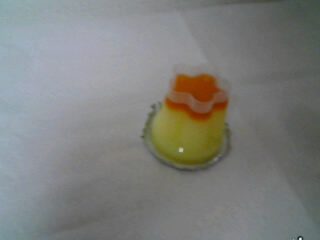001_classes: (142, 63, 245, 178)
